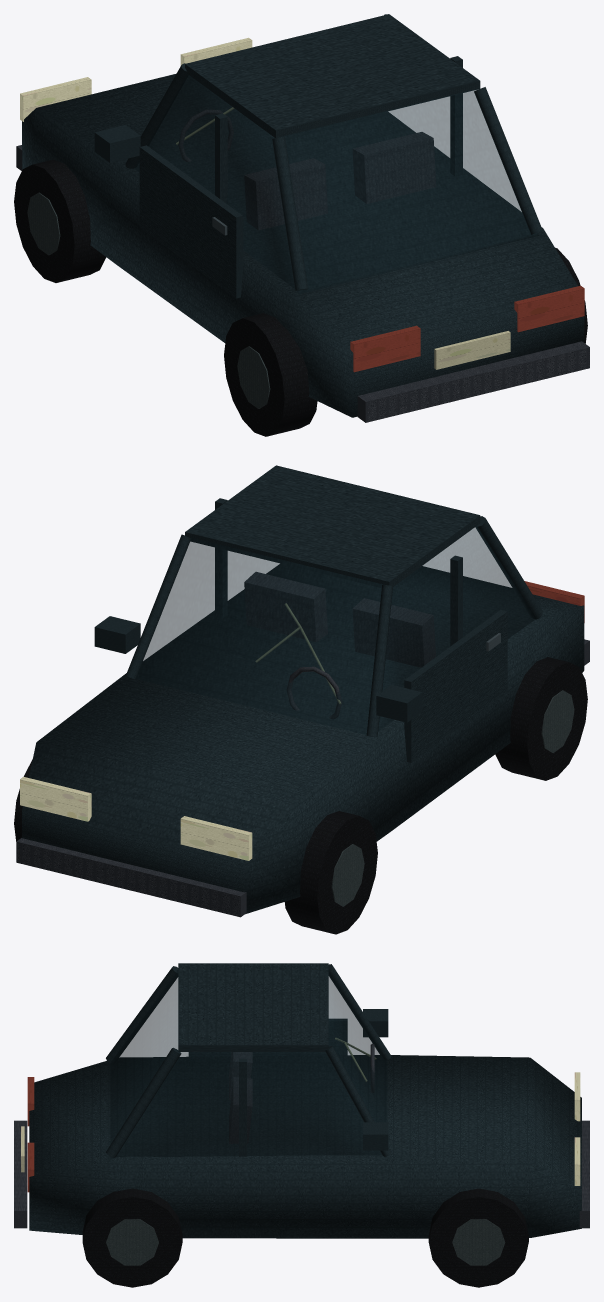
File: car_original.glb
The picture shows the model from 3 angles, top to bottom: view 1: azimuth 30°, elevation 25°; view 2: azimuth 150°, elevation 25°; view 3: azimuth 270°, elevation 25°; orthographic projection. The views are drawn at different scales.
Visible parts, largest first — view 1: _MeshInstance3D_3, _MeshInstance3D_4, _MeshInstance3D_10, _MeshInstance3D_45, _MeshInstance3D_17, _MeshInstance3D_42, _MeshInstance3D_13, _MeshInstance3D_8, _MeshInstance3D_6, _MeshInstance3D_24, _MeshInstance3D_39, _MeshInstance3D_21 (+11 smaller); view 2: _MeshInstance3D_3, _MeshInstance3D_4, _MeshInstance3D_10, _MeshInstance3D_45, _MeshInstance3D_13, _MeshInstance3D_17, _MeshInstance3D_41, _MeshInstance3D_8, _MeshInstance3D_6, _MeshInstance3D_23, _MeshInstance3D_38, _MeshInstance3D_20 (+10 smaller); view 3: _MeshInstance3D_3, _MeshInstance3D_4, _MeshInstance3D_10, _MeshInstance3D_32, _MeshInstance3D_28, _MeshInstance3D_29, _MeshInstance3D_33, _MeshInstance3D_36, _MeshInstance3D_42, _MeshInstance3D_21, _MeshInstance3D_45, _MeshInstance3D_20 (+7 smaller).
Part boxes in pixels (box(x1,y1,x2,y2)): _MeshInstance3D_3: box(22, 74, 584, 417); _MeshInstance3D_4: box(134, 74, 538, 294); _MeshInstance3D_10: box(185, 14, 480, 137); _MeshInstance3D_45: box(139, 145, 243, 298); _MeshInstance3D_17: box(224, 313, 317, 436); _MeshInstance3D_42: box(357, 341, 589, 422); _MeshInstance3D_13: box(14, 159, 106, 282); _MeshInstance3D_8: box(352, 132, 436, 203); _MeshInstance3D_6: box(244, 158, 327, 230); _MeshInstance3D_24: box(350, 325, 420, 372); _MeshInstance3D_39: box(514, 285, 584, 332); _MeshInstance3D_21: box(272, 137, 308, 290); _MeshInstance3D_3: box(22, 563, 584, 914); _MeshInstance3D_4: box(135, 525, 537, 734); _MeshInstance3D_10: box(185, 465, 480, 587); _MeshInstance3D_45: box(404, 610, 507, 762); _MeshInstance3D_13: box(284, 811, 377, 934); _MeshInstance3D_17: box(495, 657, 587, 780); _MeshInstance3D_41: box(16, 838, 246, 917); _MeshInstance3D_8: box(244, 572, 327, 641); _MeshInstance3D_6: box(352, 598, 435, 667); _MeshInstance3D_23: box(180, 816, 252, 860); _MeshInstance3D_38: box(20, 776, 91, 821); _MeshInstance3D_20: box(366, 585, 392, 736); _MeshInstance3D_3: box(29, 1055, 581, 1238); _MeshInstance3D_4: box(110, 970, 387, 1158); _MeshInstance3D_10: box(178, 963, 328, 1051); _MeshInstance3D_32: box(82, 1188, 182, 1287); _MeshInstance3D_28: box(428, 1188, 528, 1287); _MeshInstance3D_29: box(452, 1219, 505, 1265); _MeshInstance3D_33: box(106, 1219, 158, 1265); _MeshInstance3D_36: box(106, 1047, 181, 1157); _MeshInstance3D_42: box(14, 1120, 27, 1228); _MeshInstance3D_21: box(106, 966, 178, 1064); _MeshInstance3D_45: box(188, 1018, 347, 1056); _MeshInstance3D_20: box(328, 964, 391, 1059).
Size of the model in its own units: 2.02 by 1.66 by 3.91.
Materials: 12 (12 with a texture image).
